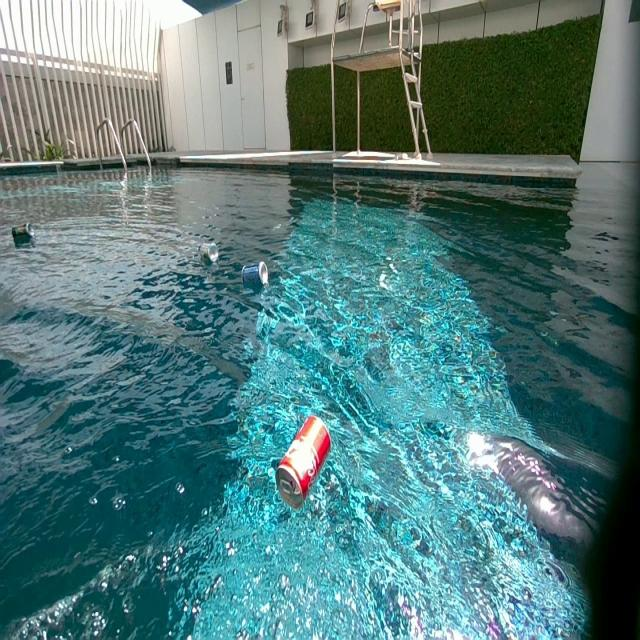Cans: (274, 413, 331, 507), (241, 261, 268, 287), (12, 222, 35, 242), (202, 244, 218, 262)
